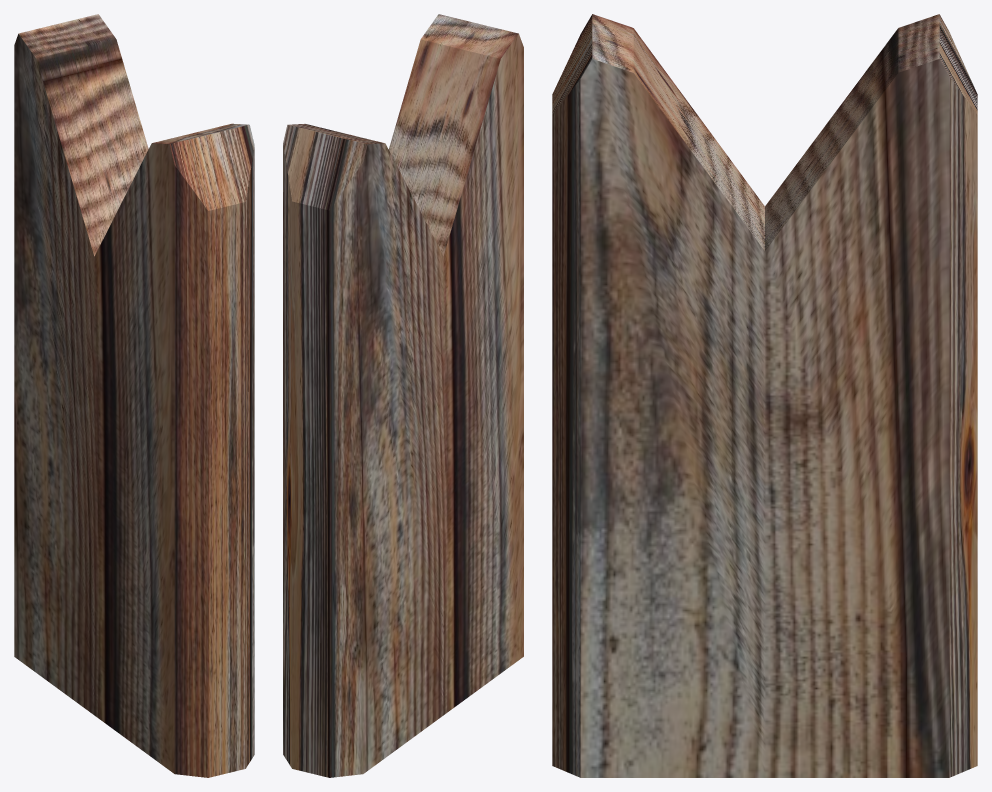
Rendered from Fence1Improve1.fbx.
3 views of the same model, side by side, from view 1: azimuth 30°, elevation 25°; view 2: azimuth 150°, elevation 25°; view 3: azimuth 270°, elevation 25° (orthographic). The views are drawn at different scales.
Visible parts, largest first — view 1: Cube; view 2: Cube; view 3: Cube.
Boxes of the visible parts, bbox=[...] form: Cube: bbox=[14, 14, 254, 777]; Cube: bbox=[283, 14, 523, 777]; Cube: bbox=[552, 14, 977, 777].
Size of the model in its own units: 150 by 1120 by 600.
